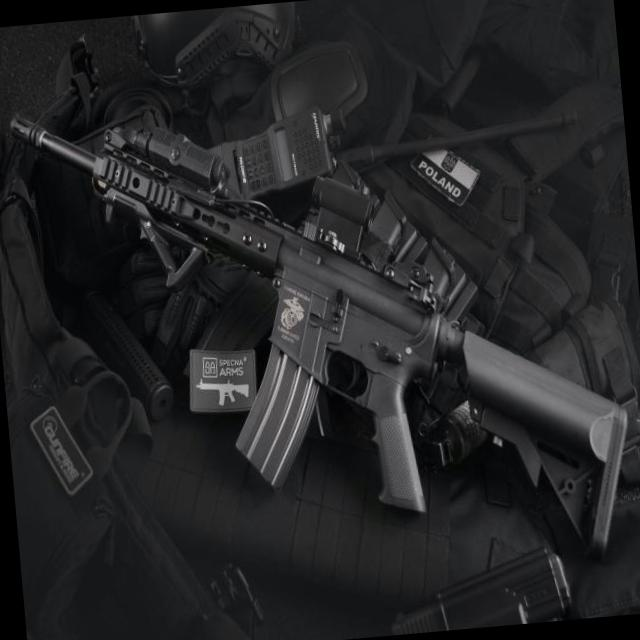Gun: (10, 120, 628, 561)
